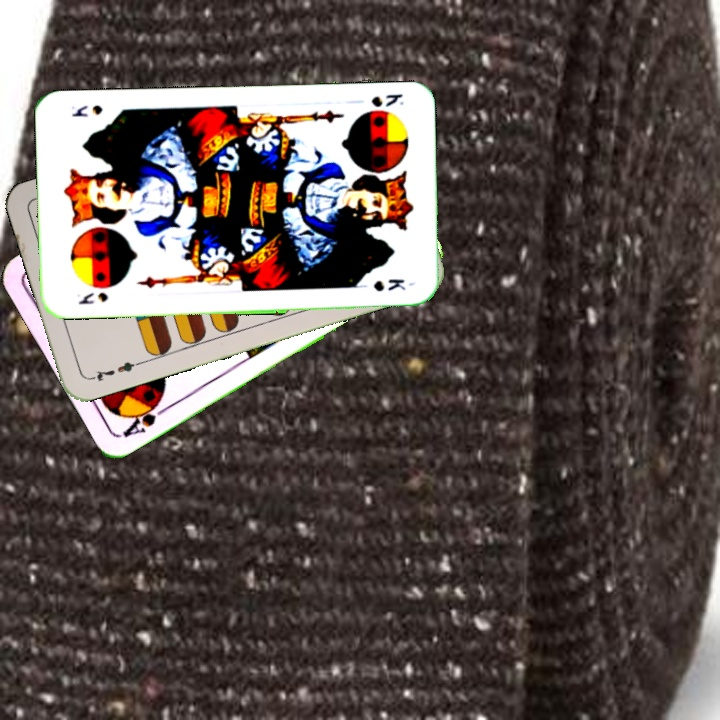E7: (85, 357, 143, 384)
SA: (118, 395, 172, 441)
SK: (367, 90, 407, 109), (74, 288, 110, 307)
